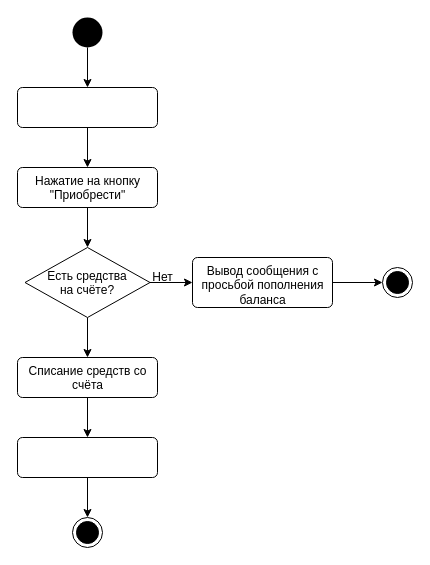
Image size: 430x565. Some labels were removed from this diagram. The centre of each missing label's shape, as x and y in pixels:
Добавление песни в медиатеку: point (87, 457)
Отображение главной страницы: point (87, 107)
